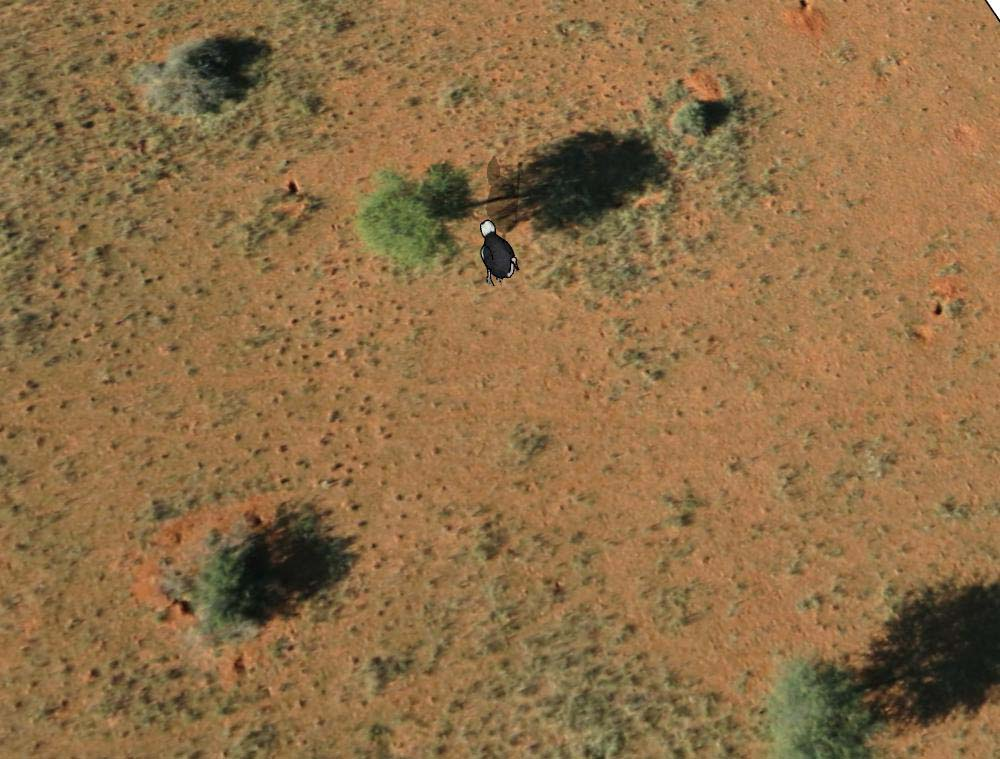ostrich: (476, 220, 522, 287)
